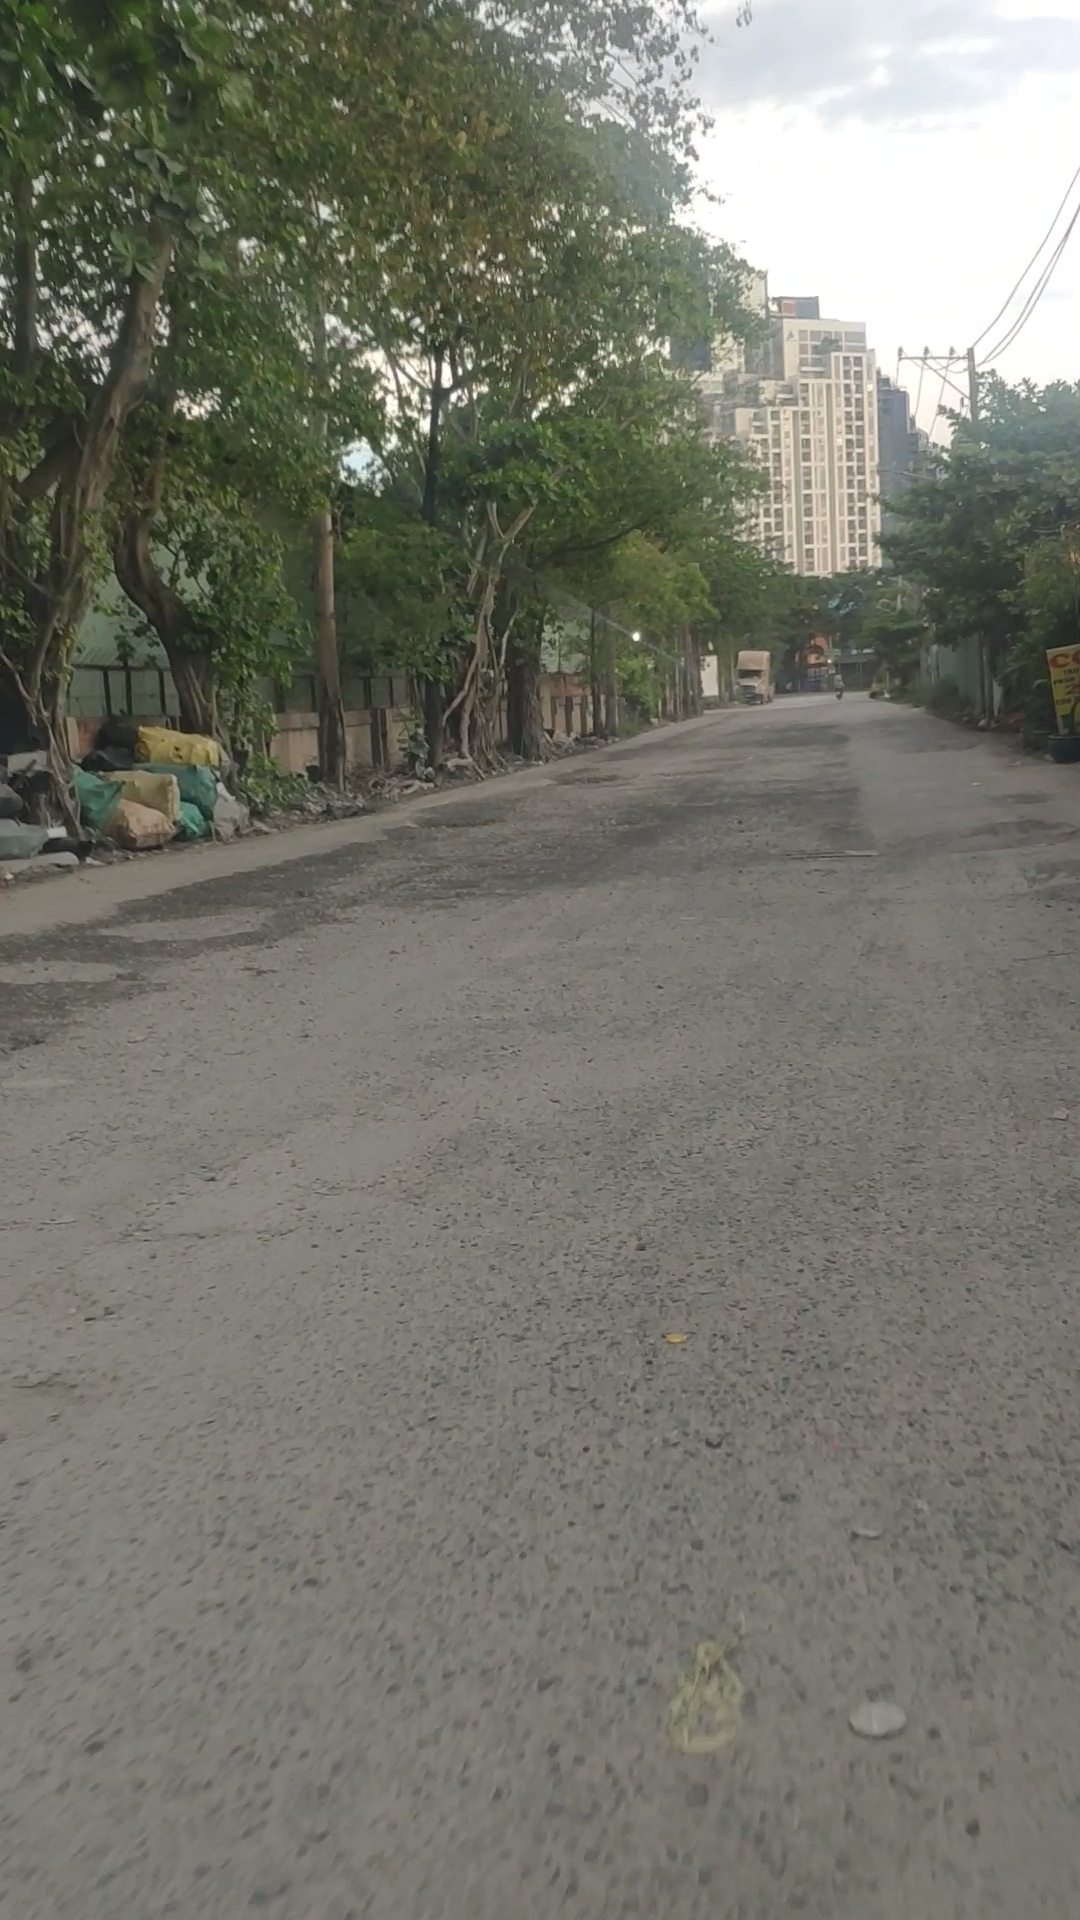hole: (587, 800, 665, 833), (398, 812, 510, 832), (550, 770, 644, 789), (651, 765, 723, 781)
